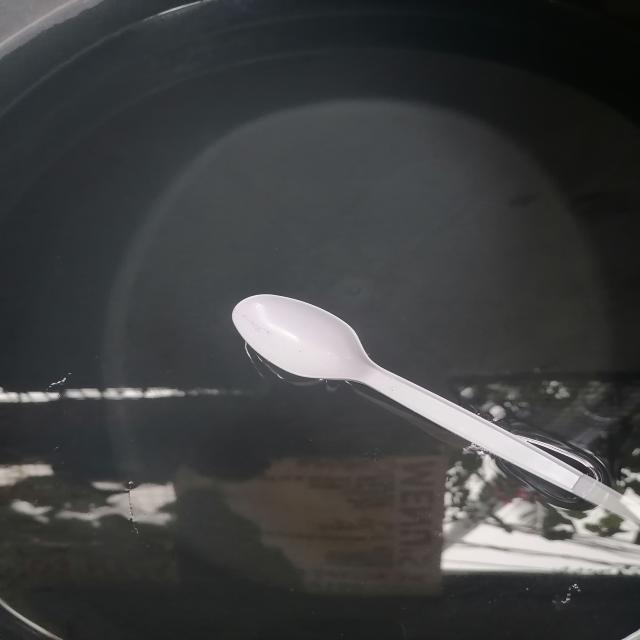Plastic Spoon: (232, 294, 640, 525)
